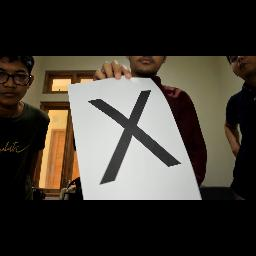x: (81, 88, 183, 188)
